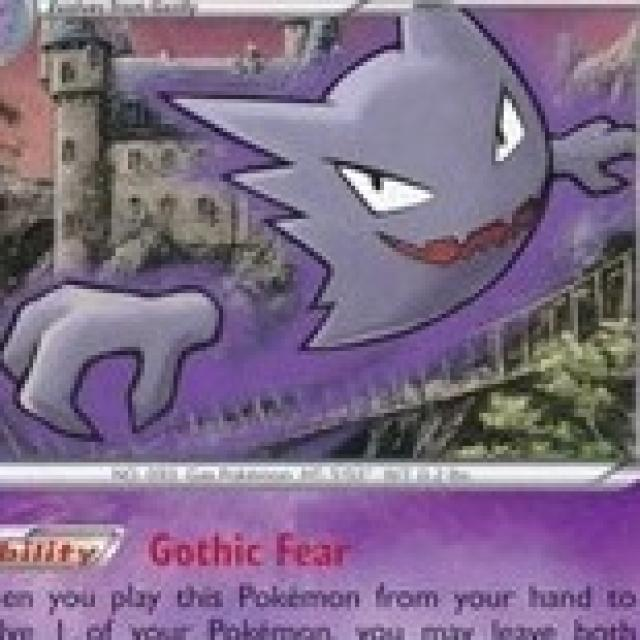Haunter: (19, 42, 640, 383)
